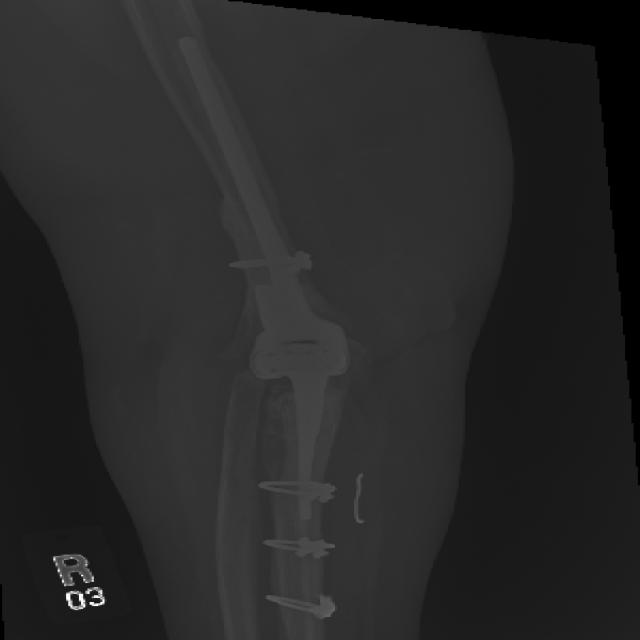elbow positive: (194, 308, 390, 376)
